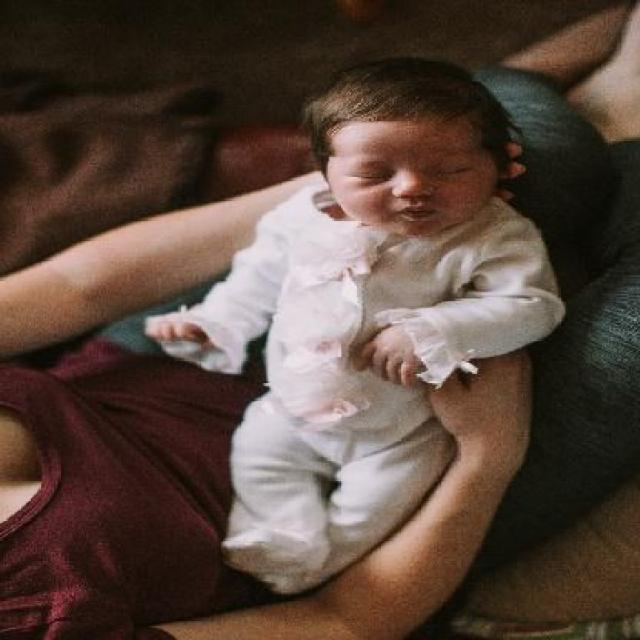baby: (140, 62, 565, 592)
